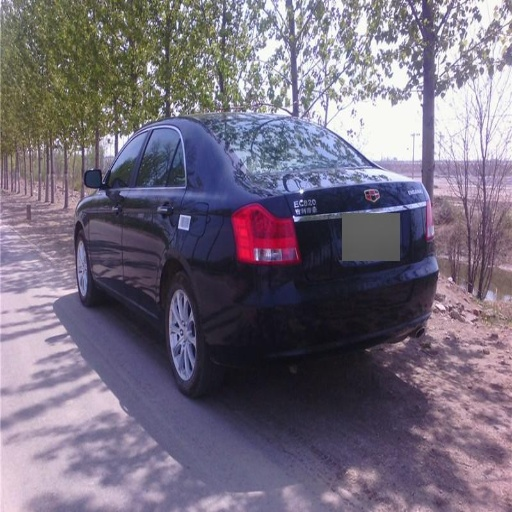back_bumper: (198, 255, 437, 373)
back_glass: (247, 121, 358, 173)
back_left_door: (123, 124, 188, 309)
tailgate: (277, 168, 421, 289)
